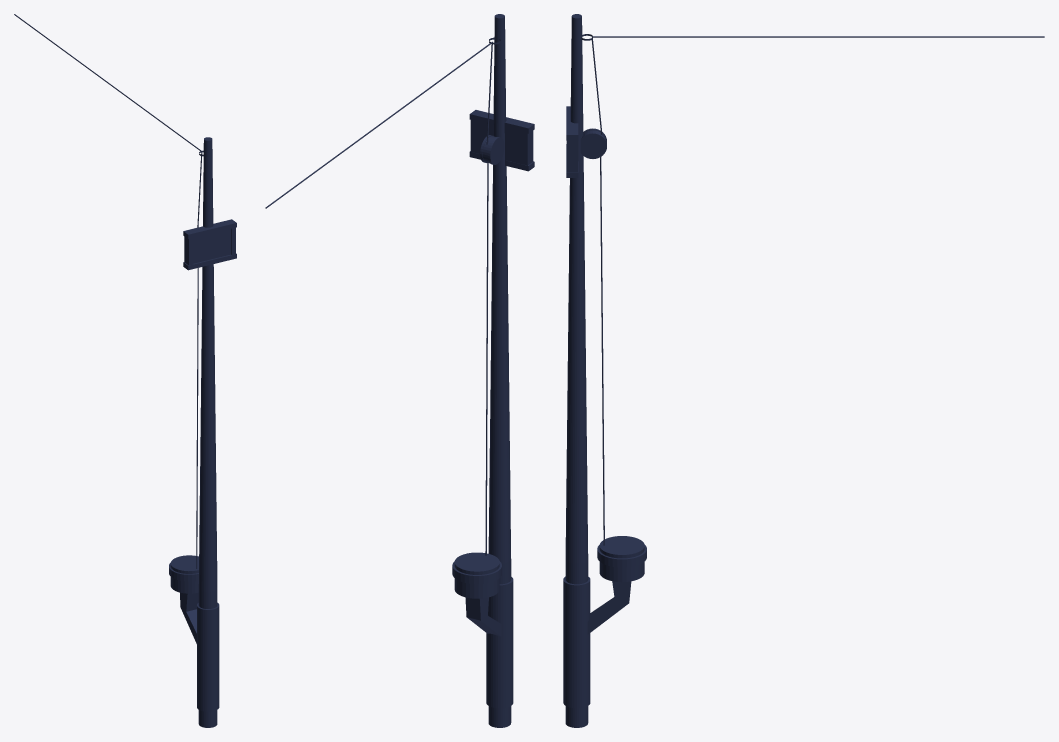
Rendered from fishingRod01.fbx.
The picture shows the model from 3 angles, left to right: view 1: azimuth 30°, elevation 25°; view 2: azimuth 150°, elevation 25°; view 3: azimuth 270°, elevation 25°; orthographic projection. The views are drawn at different scales.
Visible parts, largest first — view 1: Cube.001; view 2: Cube.001; view 3: Cube.001.
Boxes of the visible parts, bbox=[...] form: Cube.001: bbox=[14, 14, 236, 727]; Cube.001: bbox=[265, 14, 534, 727]; Cube.001: bbox=[563, 14, 1044, 727].
Bounding box in the file's own units: 300 × 3446 × 2126.
